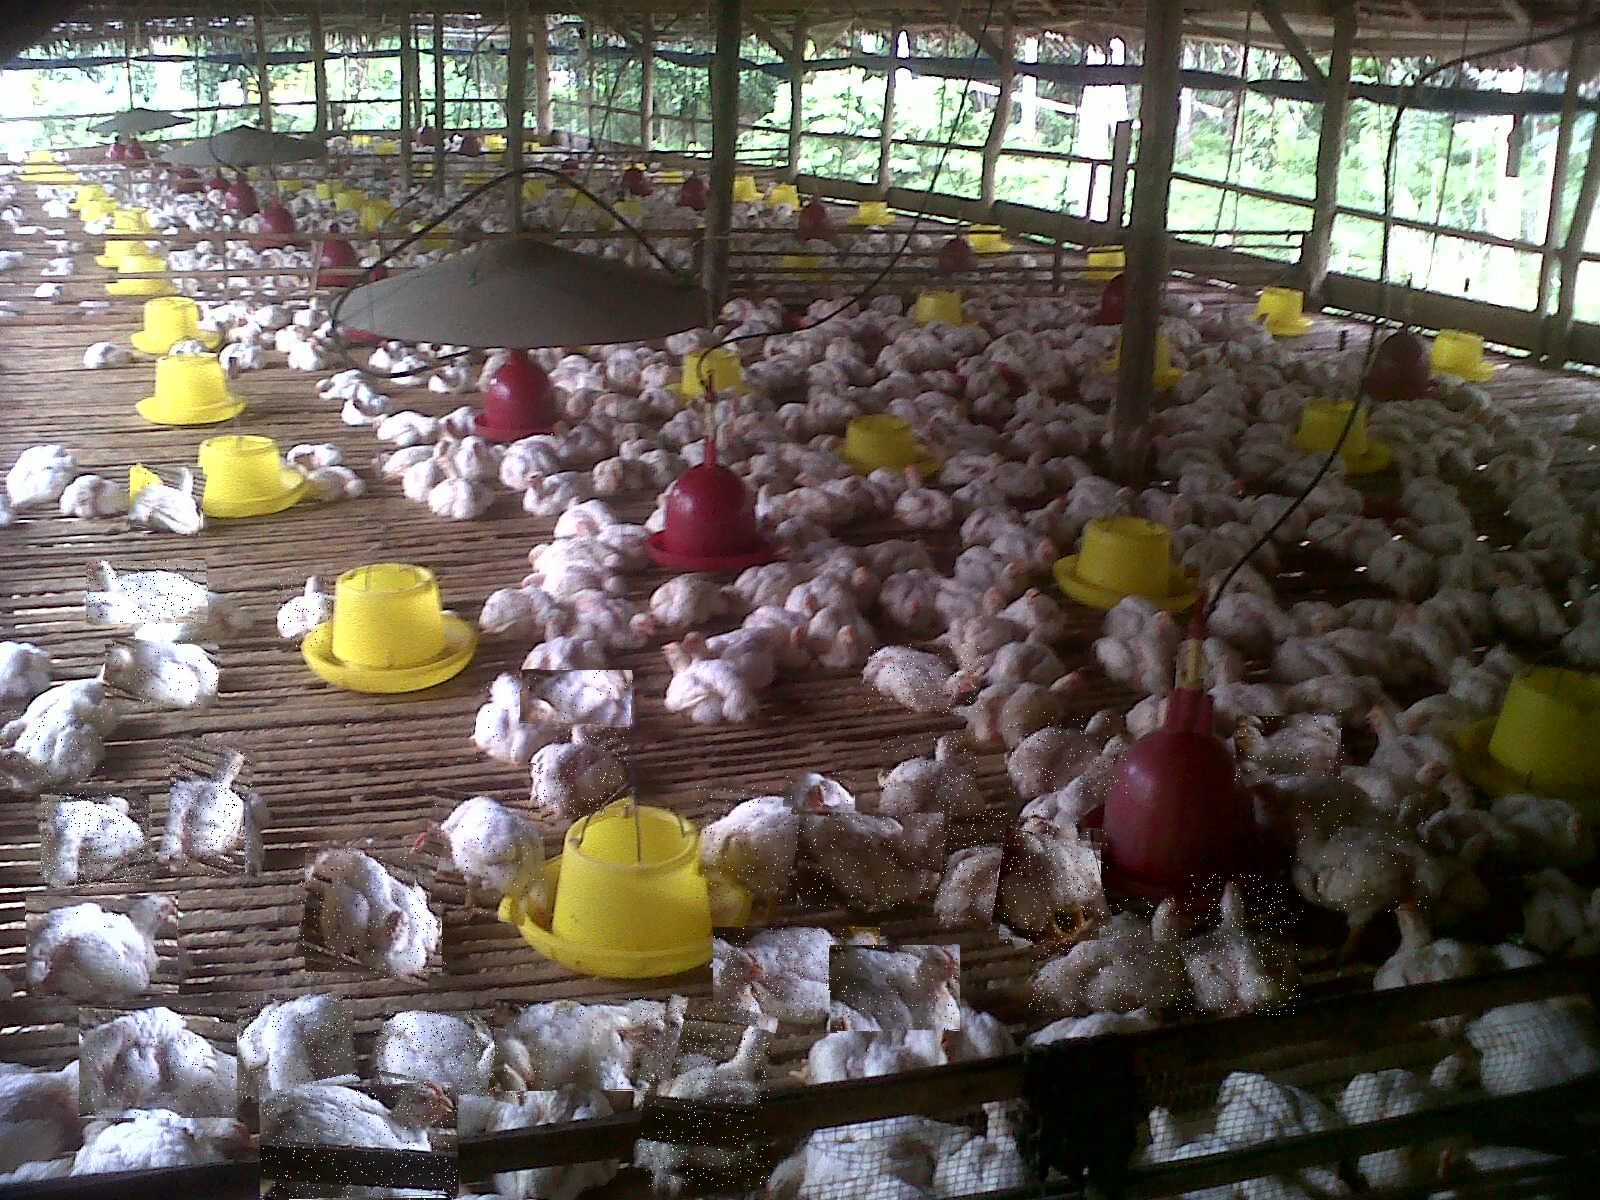chicken: (639, 997, 769, 1187), (260, 1085, 459, 1200), (300, 848, 449, 981), (1028, 899, 1198, 1013), (697, 787, 859, 901), (79, 1007, 237, 1121), (1179, 875, 1301, 1016), (417, 792, 544, 920), (1290, 798, 1429, 915), (495, 1000, 668, 1093), (26, 896, 180, 998), (713, 928, 881, 1018), (374, 1012, 535, 1099), (797, 813, 945, 908), (995, 823, 1109, 945), (937, 811, 1052, 928), (238, 995, 357, 1099), (163, 739, 252, 876), (830, 945, 960, 1034), (39, 790, 154, 889), (529, 718, 631, 821), (1004, 712, 1126, 795), (103, 640, 220, 711), (864, 645, 984, 713), (0, 710, 105, 787), (882, 732, 978, 816), (1235, 711, 1346, 783), (86, 561, 208, 625), (477, 674, 557, 763), (522, 671, 634, 727), (129, 466, 207, 536), (278, 571, 330, 647), (785, 771, 855, 813)
